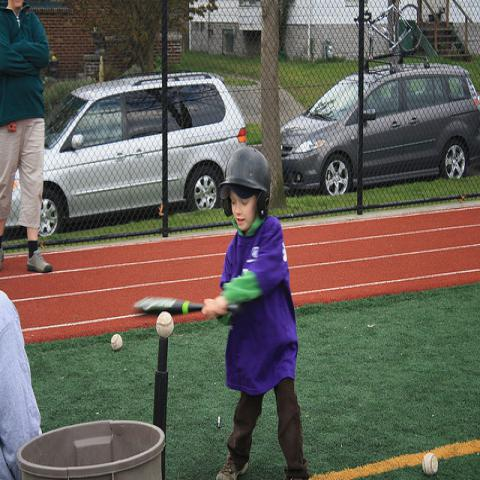car: (6, 71, 240, 240), (281, 56, 479, 198)
